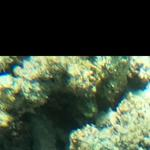dead: (6, 58, 145, 146)
